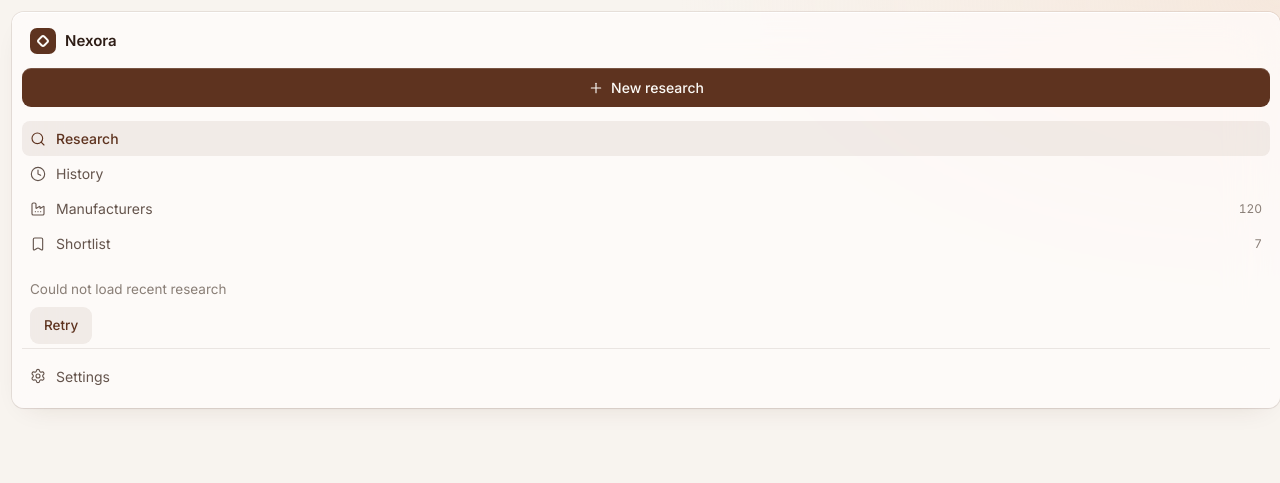
Test: Sidebar › shows an error with Retry when recent research fails, then recovers
This screenshot has width=1280, height=483.
expect the text "Could not load recent research Retry" is shown: met, box left=30, top=281, right=226, bottom=344
Step 1. Click the button "Retry" → [61, 325], box left=30, top=307, right=92, bottom=344
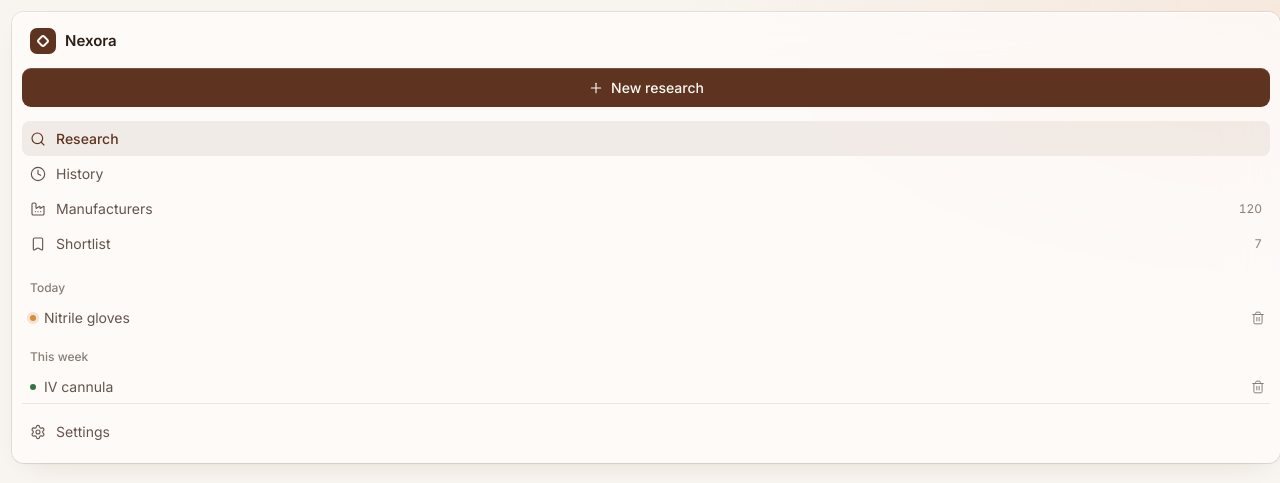
expect the text "Today" is shown: met, box left=30, top=280, right=65, bottom=295
expect the text "Could not load" is gone: met
